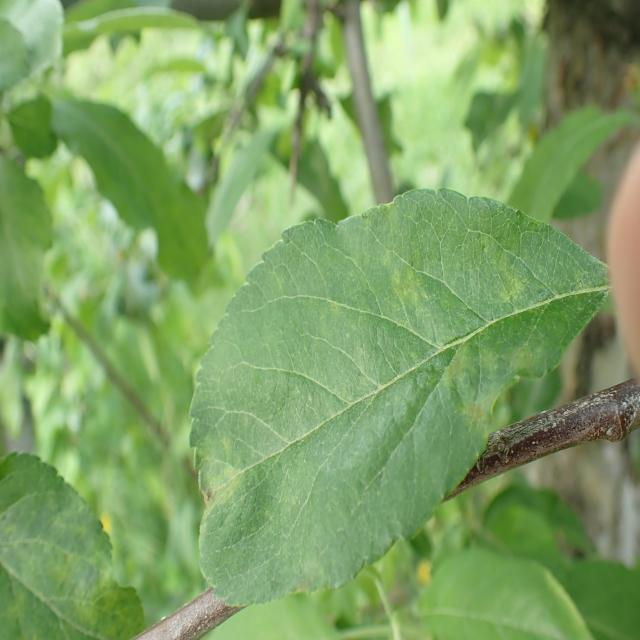scab: (206, 230, 582, 530)
